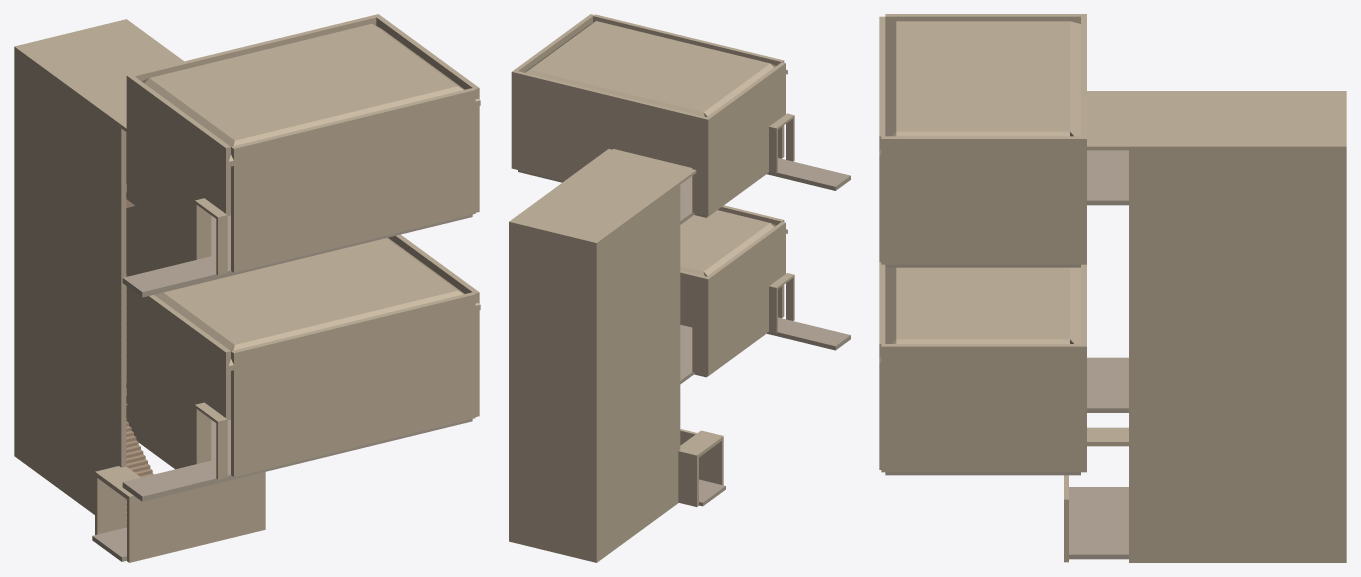
The model's file is upper.glb.
3 renders of one model, left to right at view 1: azimuth 30°, elevation 25°; view 2: azimuth 150°, elevation 25°; view 3: azimuth 270°, elevation 25°, orthographic. The views are drawn at different scales.
Parts seen in each view (by area): view 1: stair-west-shell, a-north-wall, b-north-wall, b-vault-ceiling-crown, a-vault-ceiling-crown, b-west-wall, a-west-wall, entry-side-north, stair-top-ceiling, stair-east-shell, a-view-floor, b-view-floor (+16 smaller); view 2: stair-back-shell, stair-west-shell, b-vault-ceiling-crown, stair-top-ceiling, b-south-east-wall, b-west-wall, a-west-wall, b-south-lintel, a-vault-ceiling-crown, b-south-west-pier, a-south-west-pier, b-north-wall (+13 smaller); view 3: stair-east-shell, b-east-wall, a-east-wall, b-vault-ceiling-crown, stair-top-ceiling, a-vault-ceiling-crown, slab-landing-0, stair-back-shell, slab-landing-2, slab-landing-4, b-west-wall, b-north-wall (+7 smaller).
Boxes of the visible parts, left/top/right/bottom form: stair-west-shell: left=14, top=47, right=126, bottom=528; a-north-wall: left=231, top=292, right=475, bottom=476; b-north-wall: left=231, top=88, right=475, bottom=272; b-vault-ceiling-crown: left=150, top=23, right=457, bottom=140; a-vault-ceiling-crown: left=163, top=238, right=457, bottom=344; b-west-wall: left=129, top=76, right=211, bottom=257; a-west-wall: left=129, top=288, right=211, bottom=461; entry-side-north: left=127, top=472, right=265, bottom=562; stair-top-ceiling: left=14, top=19, right=183, bottom=131; stair-east-shell: left=126, top=132, right=196, bottom=469; a-view-floor: left=122, top=460, right=230, bottom=501; b-view-floor: left=122, top=256, right=230, bottom=297; stair-back-shell: left=509, top=222, right=596, bottom=562; stair-west-shell: left=595, top=182, right=680, bottom=562; b-vault-ceiling-crown: left=530, top=21, right=769, bottom=112; stair-top-ceiling: left=509, top=149, right=696, bottom=245; b-south-east-wall: left=512, top=70, right=614, bottom=180; b-west-wall: left=707, top=73, right=770, bottom=214; a-west-wall: left=707, top=233, right=770, bottom=373; b-south-lintel: left=612, top=95, right=694, bottom=167; a-vault-ceiling-crown: left=680, top=210, right=769, bottom=271; b-south-west-pier: left=692, top=114, right=710, bottom=216; a-south-west-pier: left=692, top=274, right=710, bottom=375; b-north-wall: left=593, top=14, right=784, bottom=158; stair-east-shell: left=1129, top=146, right=1346, bottom=562; b-east-wall: left=881, top=136, right=1086, bottom=264; a-east-wall: left=881, top=344, right=1086, bottom=472; b-vault-ceiling-crown: left=896, top=21, right=1069, bottom=131; stair-top-ceiling: left=1087, top=91, right=1346, bottom=150; a-vault-ceiling-crown: left=896, top=267, right=1069, bottom=339; slab-landing-0: left=1069, top=504, right=1128, bottom=559; stair-back-shell: left=1340, top=146, right=1346, bottom=562; slab-landing-2: left=1087, top=357, right=1128, bottom=412; slab-landing-4: left=1087, top=150, right=1128, bottom=205; b-west-wall: left=925, top=14, right=1080, bottom=23; b-north-wall: left=879, top=16, right=885, bottom=262.
Bounding box in the file's own units: 19.7 × 26.83 × 23.39.
